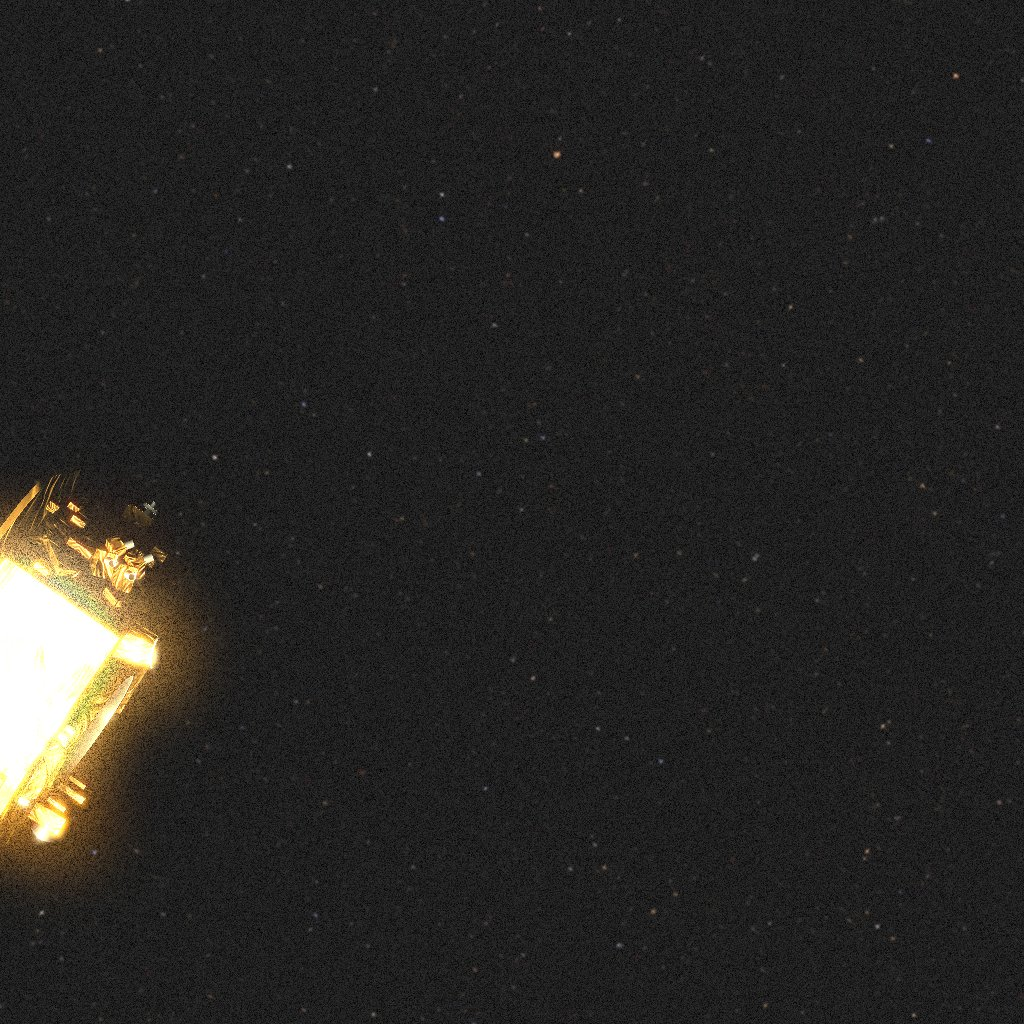lisa_pathfinder: (0, 466, 192, 850)
